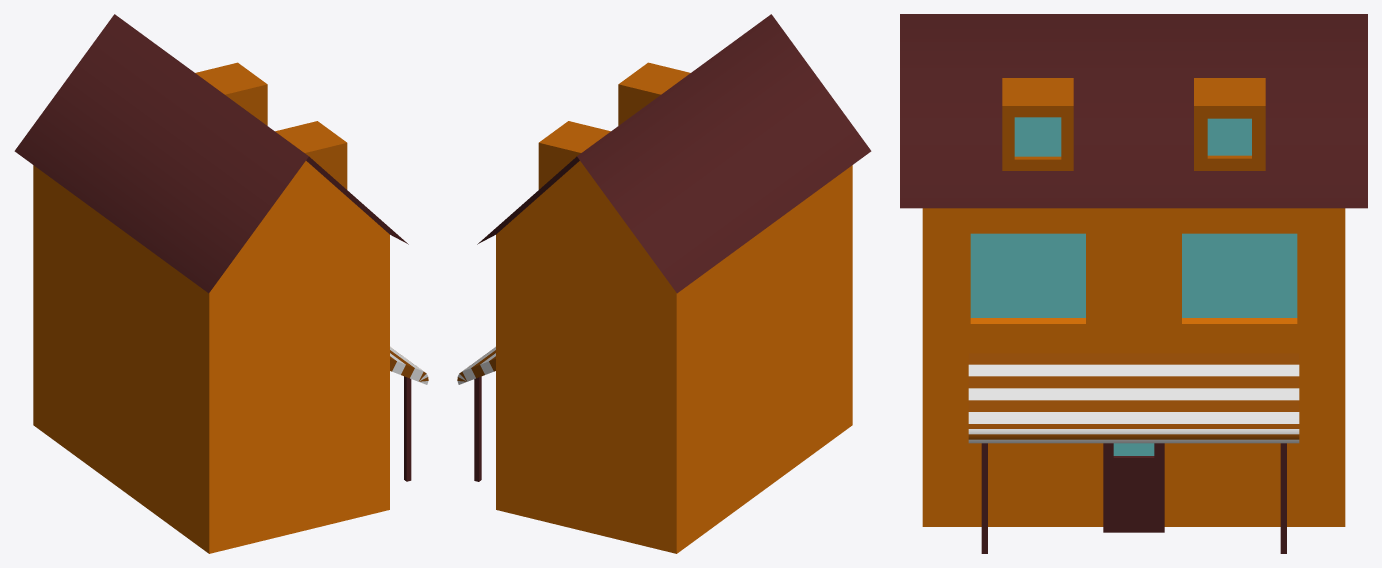
File: house1.fbx
3 views of the same model, side by side, from view 1: azimuth 30°, elevation 25°; view 2: azimuth 150°, elevation 25°; view 3: azimuth 270°, elevation 25° (orthographic). The views are drawn at different scales.
Parts seen in each view (by area): view 1: house1; view 2: house1; view 3: house1.
Boxes of the visible parts, x1,y1,x2,y2 form: house1: (14, 14, 428, 553); house1: (457, 14, 871, 553); house1: (900, 14, 1367, 553).
Bounding box in the file's own units: 24.59 × 36.2 × 33.37.
